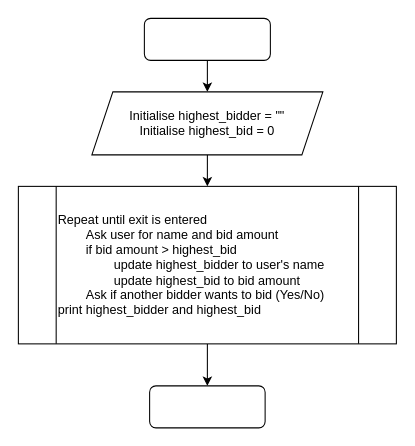
The diagram is 415 pixels wide and 446 high, and some of its shapes have lost their labels. Here are the shapes that lost their labels. From the top down, the box of each, then its label:
(143, 17, 270, 60): Start
(149, 385, 265, 428): End
